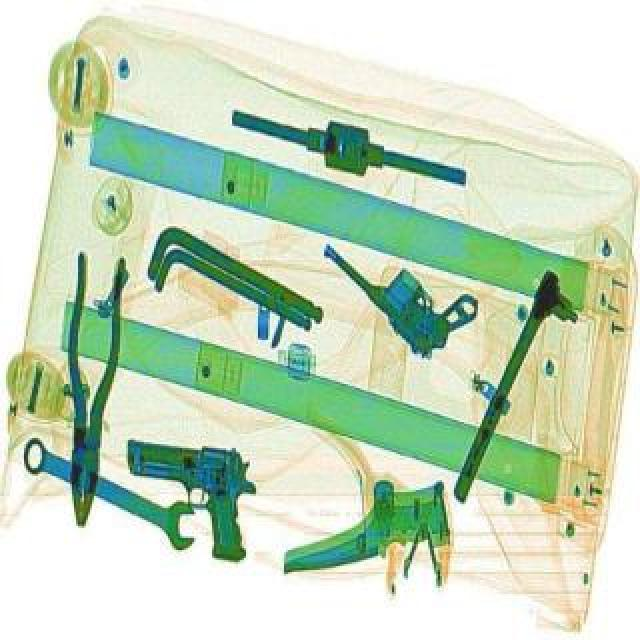gun: (314, 200, 490, 366), (110, 432, 260, 558)
scissors: (6, 430, 206, 552)
wrench: (52, 248, 126, 526)
